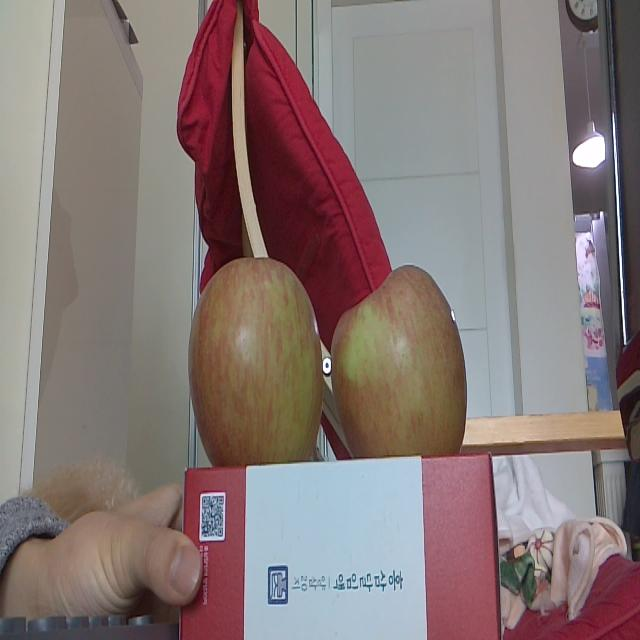apple: (188, 255, 329, 464), (335, 264, 470, 455)
